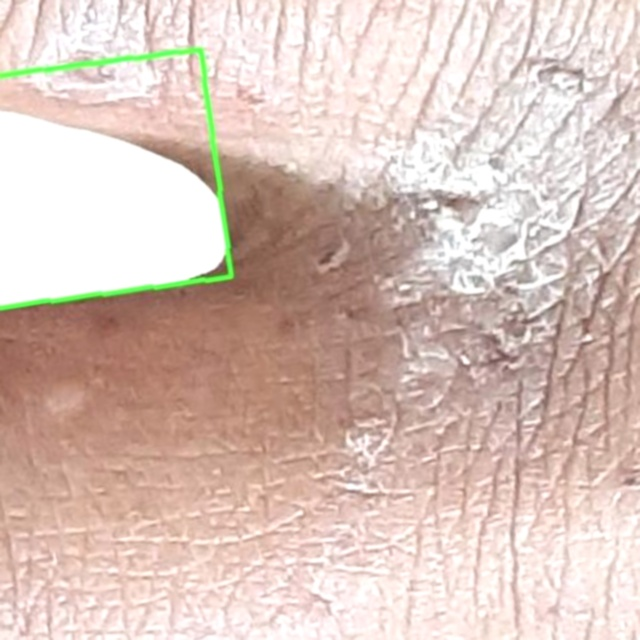Scabies: (0, 48, 231, 307)
